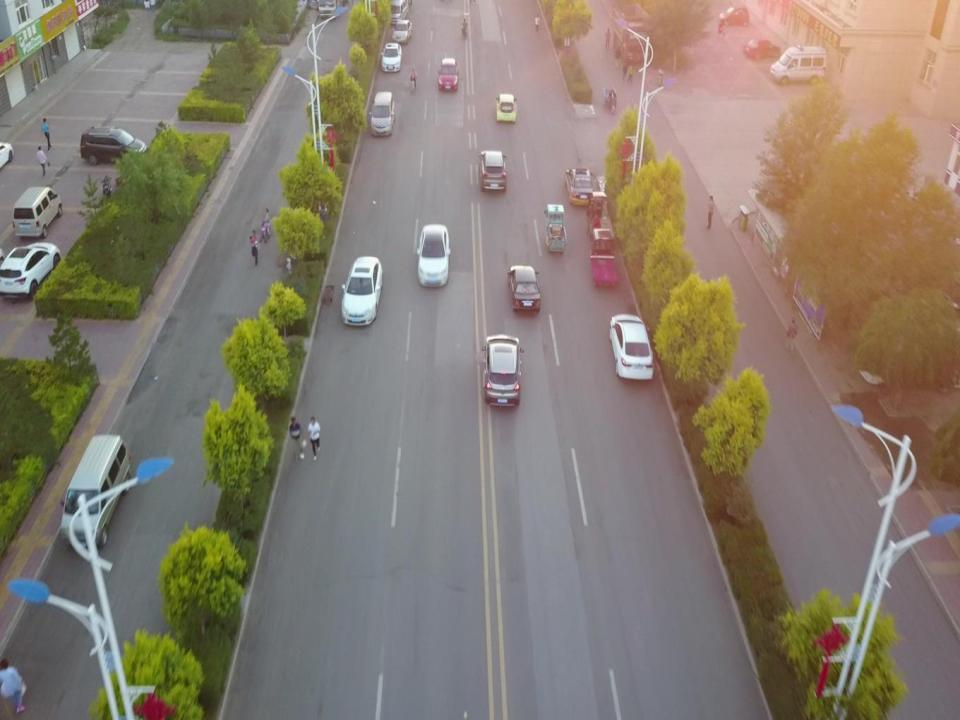car: (0, 241, 61, 297), (481, 333, 523, 408), (610, 314, 653, 382), (342, 257, 382, 327), (79, 126, 148, 165), (417, 224, 451, 288), (507, 264, 540, 312), (479, 150, 506, 193), (566, 169, 594, 206), (743, 38, 781, 61), (438, 58, 458, 93), (496, 94, 518, 124), (381, 42, 402, 72), (719, 6, 749, 26), (392, 19, 413, 43)
truck: (613, 3, 650, 63), (318, 0, 342, 19)
van: (60, 434, 130, 549), (12, 186, 62, 238), (770, 44, 826, 85), (370, 92, 394, 138), (388, 0, 408, 26)
